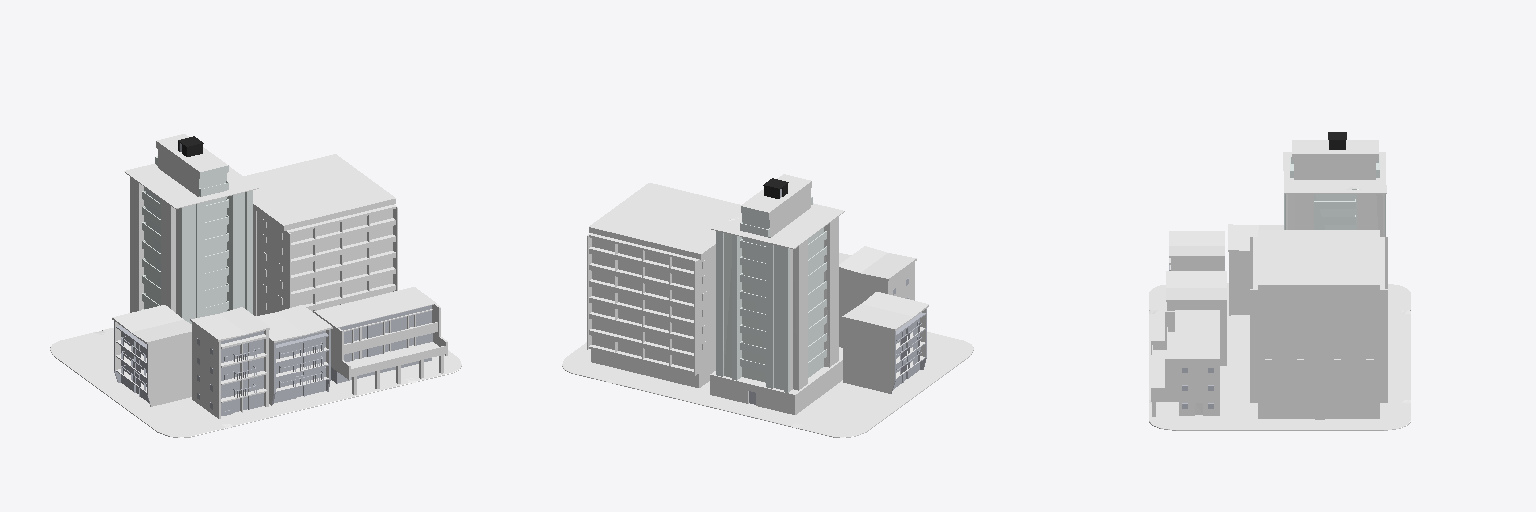
File: CityBlockC.obj
3 renders of one model, left to right at view 1: azimuth 30°, elevation 25°; view 2: azimuth 150°, elevation 25°; view 3: azimuth 270°, elevation 25°, orthographic.
Parts seen in each view (by area): view 1: CityBlockC; view 2: CityBlockC; view 3: CityBlockC.
Part boxes in pixels (x1,y1,x2,y2): CityBlockC: (50, 134, 461, 437); CityBlockC: (562, 174, 973, 437); CityBlockC: (1149, 132, 1410, 430).
Bounding box in the file's own units: 2028 × 1316 × 1530.